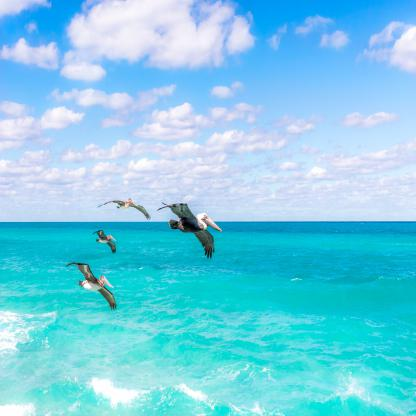bird: (158, 203, 220, 260), (67, 262, 118, 311), (98, 198, 150, 219), (92, 230, 117, 254)
